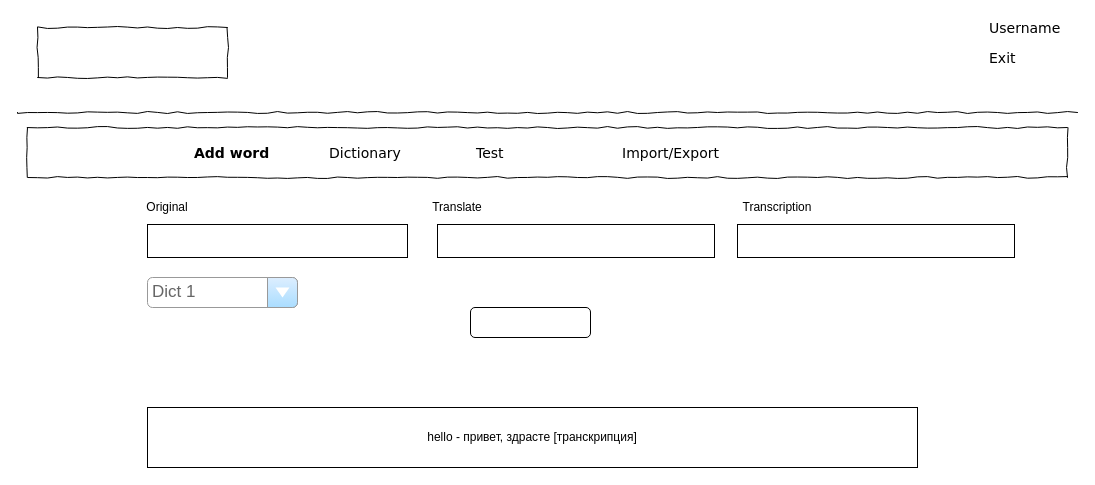
Image size: 1095x485. Some labels were removed from this diagram. The shapes that lost their labels are listed below. From the top down, each one's centre as x and y in pixels, then its label:
At [132,52]: "LOGO".
At [530,322]: "Submit".
